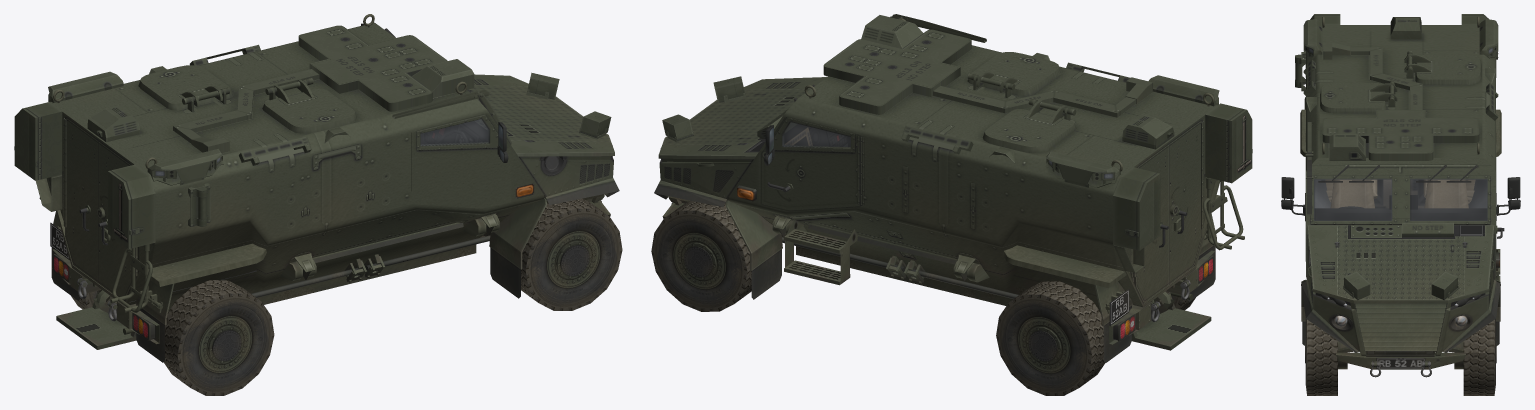
The model's file is foxhound_mrap.glb.
3 views of the same model, side by side, from view 1: azimuth 30°, elevation 25°; view 2: azimuth 150°, elevation 25°; view 3: azimuth 270°, elevation 25° (orthographic). The views are drawn at different scales.
Parts seen in each view (by area): view 1: hull, topdetails, wheel4, wheel2, backboxes, backitems, hatch4b, mudguard, sidebars, hatch2, sensor, hatch4a (+6 smaller); view 2: hull, topdetails, wheel3, wheel, backboxes, hatch, backitems, hatch4a, mudguard, sidebars, hatch3, sensor (+8 smaller); view 3: hull, topdetails, frontdetails, windshield, interior, seat, bonnetboxes, wheel, wheel2, hatch3, hatch2, sensor (+7 smaller).
Part boxes in pixels (x1=…): hull: x1=50, y1=22, x2=614, y2=312; topdetails: x1=53, y1=14, x2=511, y2=276; wheel4: x1=163, y1=280, x2=274, y2=395; wheel2: x1=521, y1=198, x2=622, y2=310; backboxes: x1=14, y1=102, x2=155, y2=248; backitems: x1=50, y1=222, x2=162, y2=349; hatch4b: x1=64, y1=117, x2=98, y2=283; mudguard: x1=51, y1=198, x2=546, y2=362; sidebars: x1=251, y1=213, x2=499, y2=297; hatch2: x1=262, y1=79, x2=356, y2=133; sensor: x1=48, y1=71, x2=223, y2=185; hatch4a: x1=96, y1=141, x2=131, y2=300; hull: x1=658, y1=45, x2=1220, y2=311; topdetails: x1=804, y1=14, x2=1214, y2=277; wheel3: x1=996, y1=281, x2=1104, y2=395; wheel: x1=651, y1=201, x2=751, y2=311; backboxes: x1=1113, y1=103, x2=1252, y2=272; hatch: x1=761, y1=117, x2=860, y2=210; backitems: x1=1105, y1=177, x2=1244, y2=350; hatch4a: x1=1169, y1=120, x2=1203, y2=284; mudguard: x1=726, y1=200, x2=1216, y2=362; sidebars: x1=772, y1=216, x2=1018, y2=298; hatch3: x1=982, y1=100, x2=1076, y2=153; sensor: x1=1045, y1=75, x2=1219, y2=187; hull: x1=1305, y1=25, x2=1496, y2=356; topdetails: x1=1295, y1=16, x2=1498, y2=215; frontdetails: x1=1301, y1=280, x2=1500, y2=377; windshield: x1=1315, y1=179, x2=1486, y2=220; interior: x1=1314, y1=179, x2=1487, y2=220; seat: x1=1325, y1=179, x2=1475, y2=208; bonnetboxes: x1=1308, y1=222, x2=1499, y2=307; wheel: x1=1463, y1=319, x2=1496, y2=395; wheel2: x1=1305, y1=318, x2=1337, y2=395; hatch3: x1=1404, y1=54, x2=1481, y2=84; hatch2: x1=1320, y1=83, x2=1397, y2=113; sensor: x1=1303, y1=19, x2=1498, y2=58.
Bounding box in the file's own units: 5.42 × 2.53 × 2.62.
Materials: 4 (4 with a texture image).
